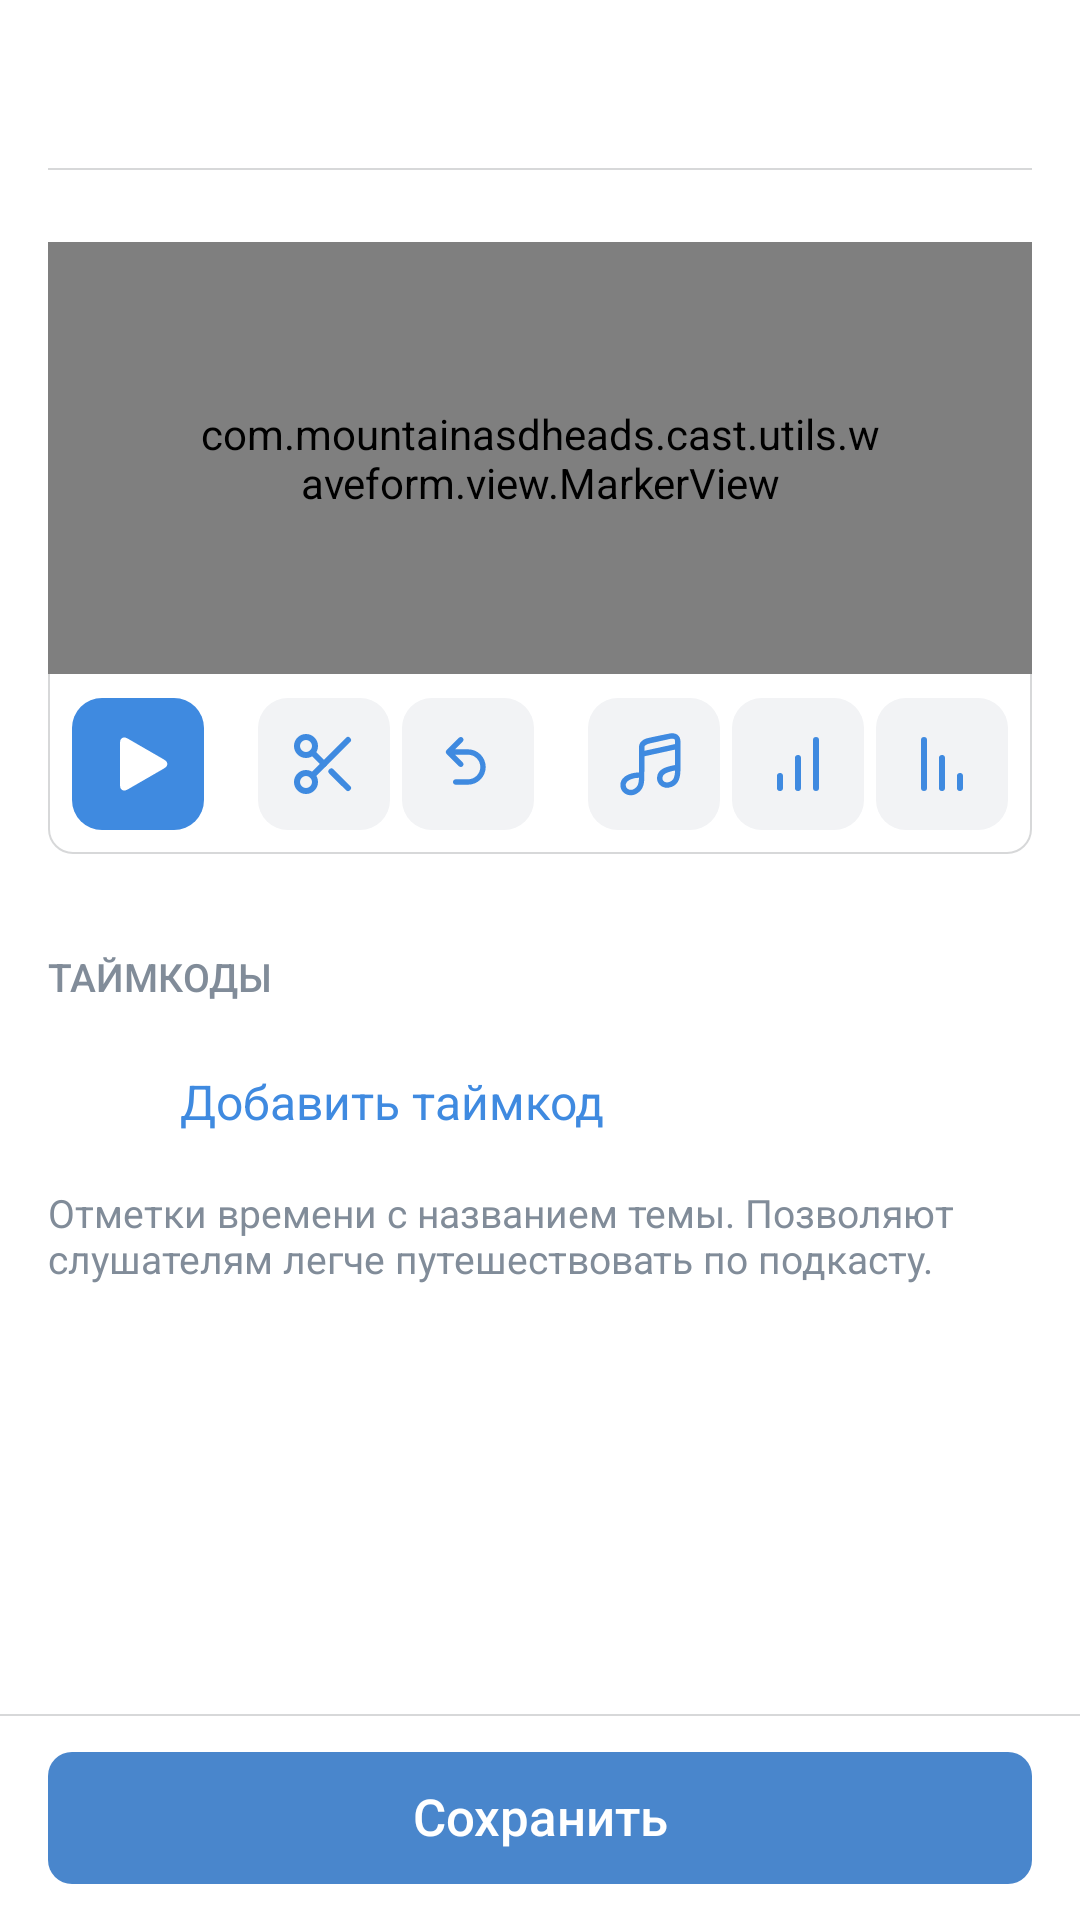

Icons on this 1080w x 1920h Android screen, each with the point to tap as (x,y):
cut: (324,764)
music: (654,764)
play: (138,764)
undo: (468,764)
volume down: (942,764)
volume grow: (798,764)
